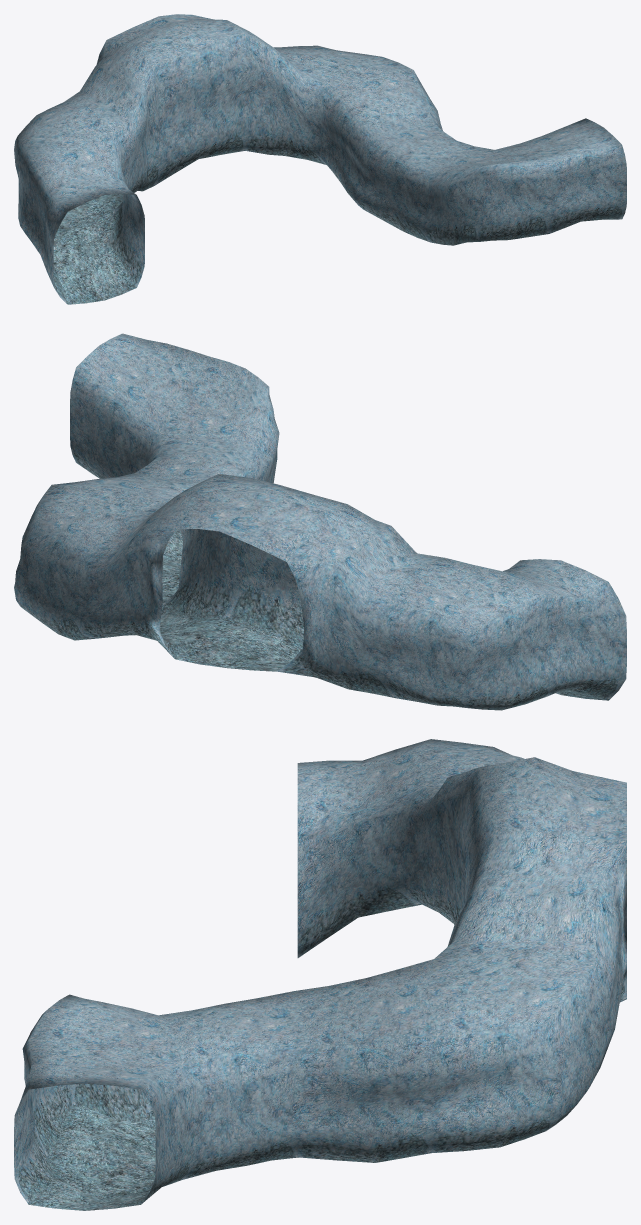
The model's file is thm_all_cave_flatland_s03_ice_r25_r25.fbx.
3 renders of one model, top to bottom at view 1: azimuth 30°, elevation 25°; view 2: azimuth 150°, elevation 25°; view 3: azimuth 270°, elevation 25°, orthographic. The views are drawn at different scales.
Parts seen in each view (by area): view 1: mesh_node; view 2: mesh_node; view 3: mesh_node.
Boxes of the visible parts, box(x1,y1,x2,y2) form: mesh_node: box(14, 14, 626, 304); mesh_node: box(14, 333, 626, 710); mesh_node: box(14, 739, 626, 1210).
Bounding box in the file's own units: 48.48 × 17.17 × 34.59.
